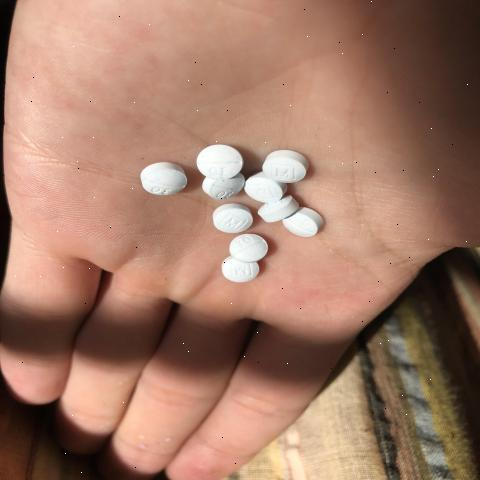Pill: (128, 149, 191, 203), (190, 130, 242, 183), (264, 145, 314, 194), (192, 204, 256, 238), (280, 203, 328, 246), (217, 231, 272, 265)
